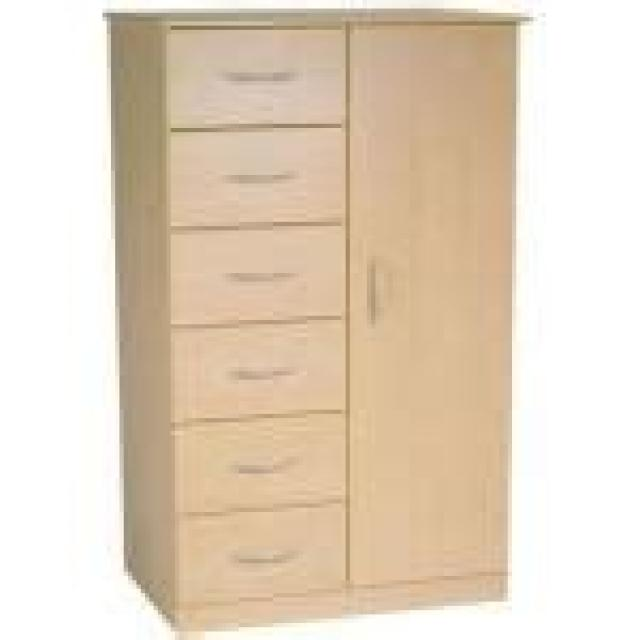Closet: (92, 4, 530, 638)
